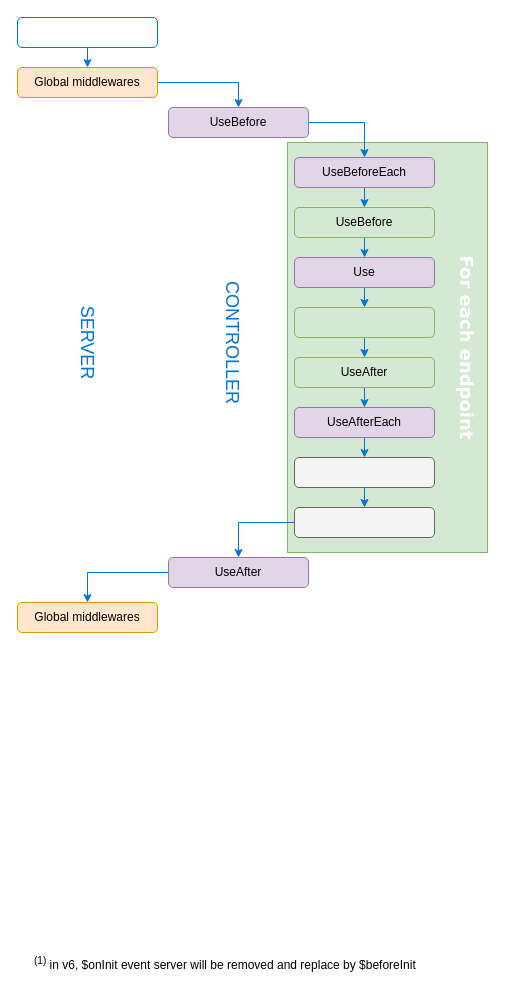
Image size: 505x1005. Some labels were removed from this diagram. Each missing label, with the box of its shape:
Client request: (16, 16, 158, 48)
Endpoint Handler: (294, 306, 434, 338)
Render (1): (294, 456, 434, 488)
SendResponse (2): (294, 506, 434, 538)
